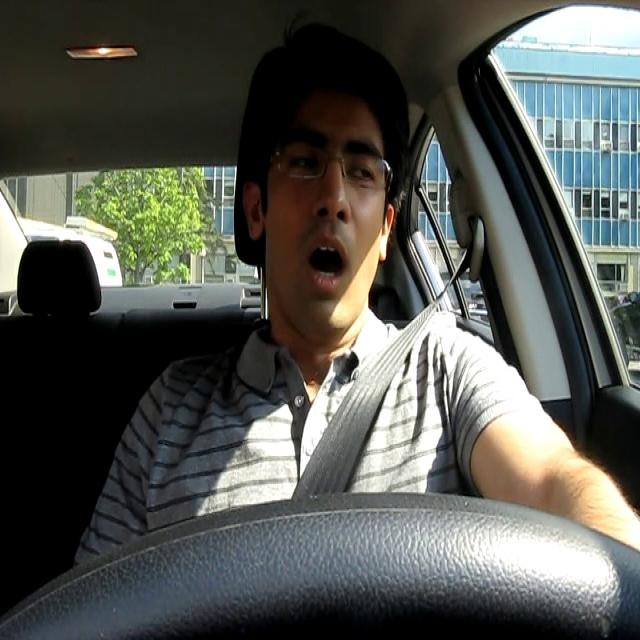open: (296, 228, 350, 294)
